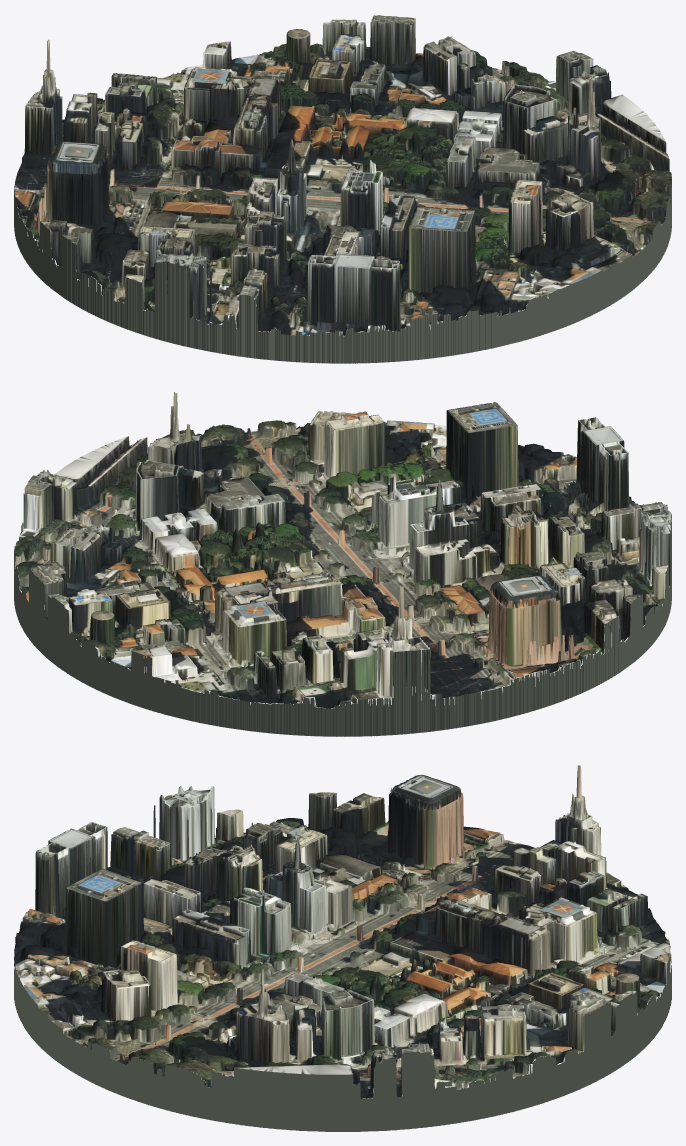
The model's file is sesc_paulista-transformed.glb.
3 views of the same model, one above another, from view 1: azimuth 30°, elevation 25°; view 2: azimuth 150°, elevation 25°; view 3: azimuth 270°, elevation 25° (orthographic).
Visible parts, largest first — view 1: Node; view 2: Node; view 3: Node.
Boxes of the visible parts, <box> form: Node: <box>14,15,671,363</box>; Node: <box>14,392,671,736</box>; Node: <box>14,765,671,1131</box>.
Size of the model in its own units: 1332 by 316 by 1332.
Materials: 1 (1 with a texture image).
